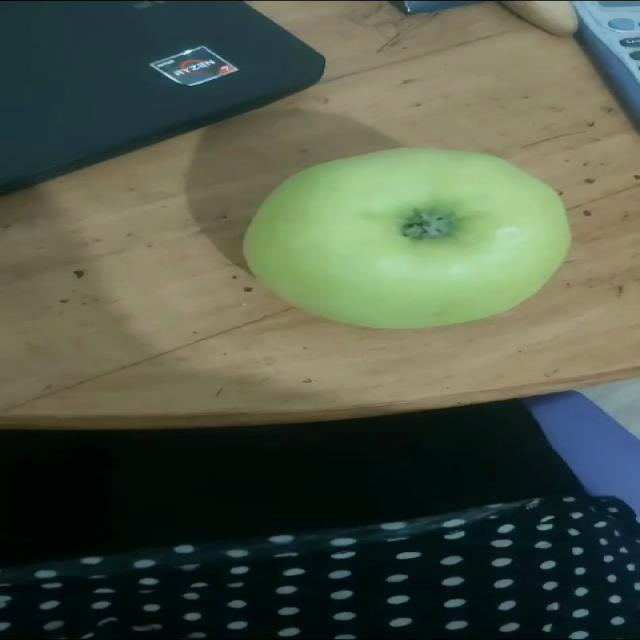50-_ripeness: (240, 146, 569, 330)
